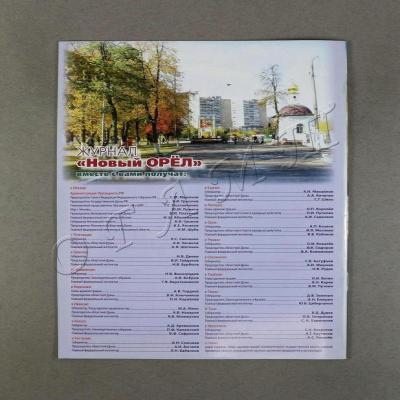rare_books: (57, 41, 346, 360)
